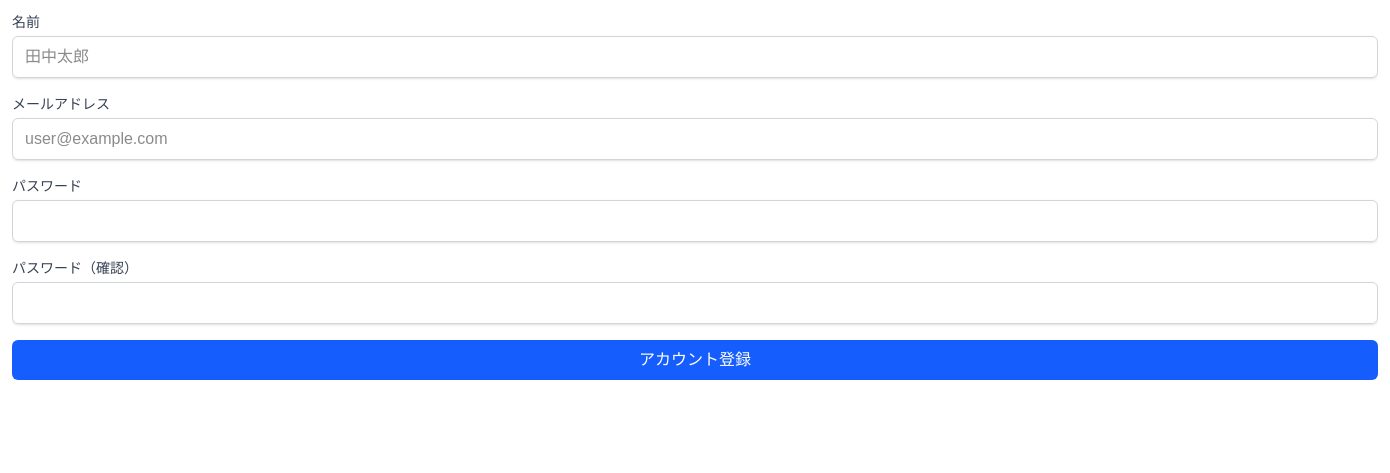
Scenario: RegisterForm › 名前未入力でバリデーションエラーが表示される
Click the button "アカウント登録" at (695, 360), box [12,340,1378,380]
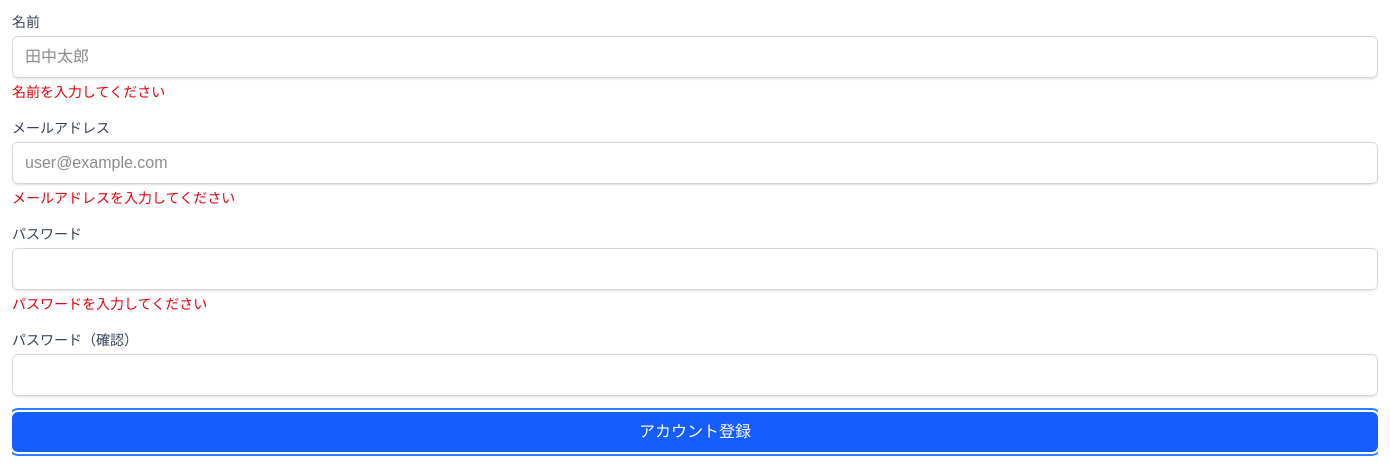
Now the text "名前を入力してください" is shown, box [12,84,165,100]
